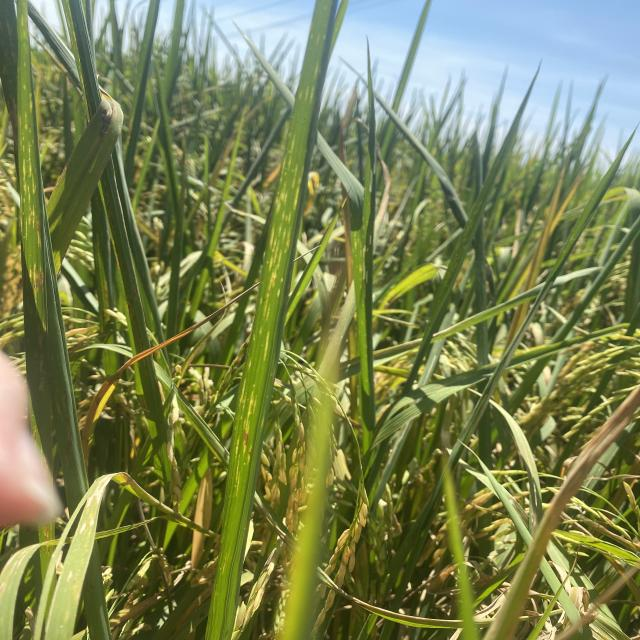Dom soc vi khuan: (243, 390, 254, 454), (264, 331, 270, 361), (270, 226, 275, 250), (23, 159, 26, 194), (28, 142, 31, 177), (235, 438, 239, 458), (33, 205, 34, 228)
